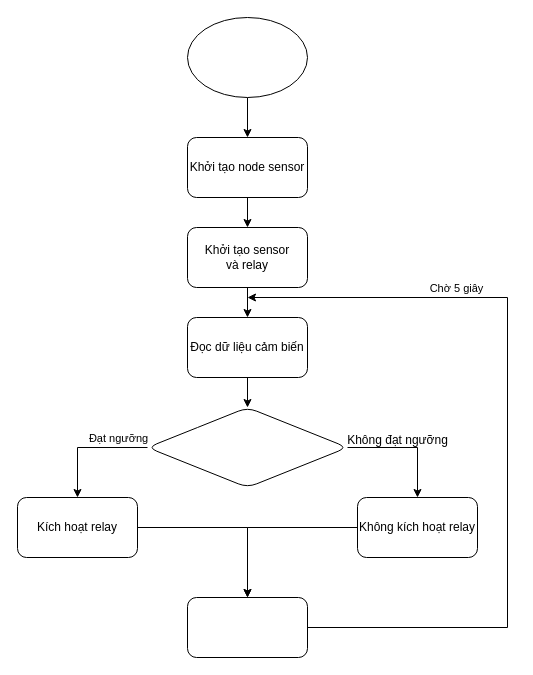
Some shapes in this 533 by 675 pixel diagram are drawn without their labels. Each missing label, with the box of its shape:
Bắt đầu: (186, 16, 308, 98)
Gửi dữ liệu đến gateway: (186, 596, 308, 658)
Kiểm tra ngưỡng cảnh báo: (146, 406, 348, 488)
